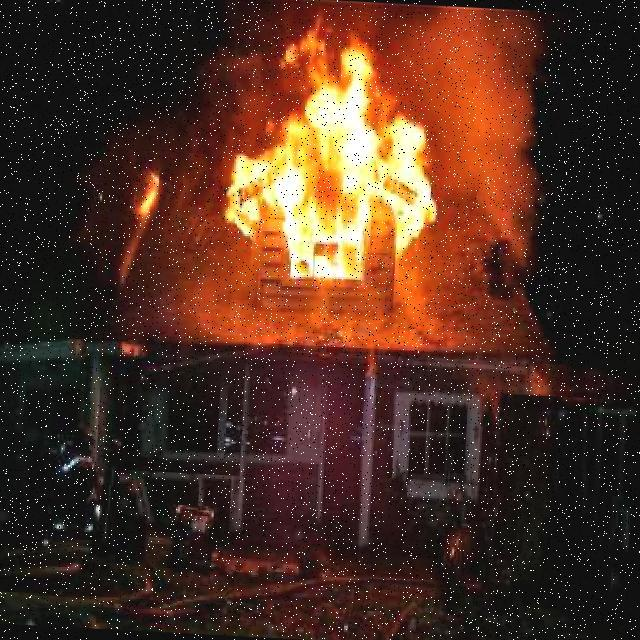Fire: (225, 31, 445, 286)
